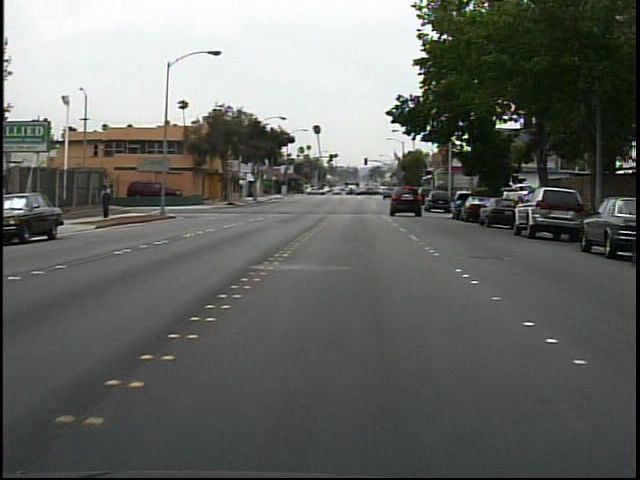person: (98, 179, 120, 222)
